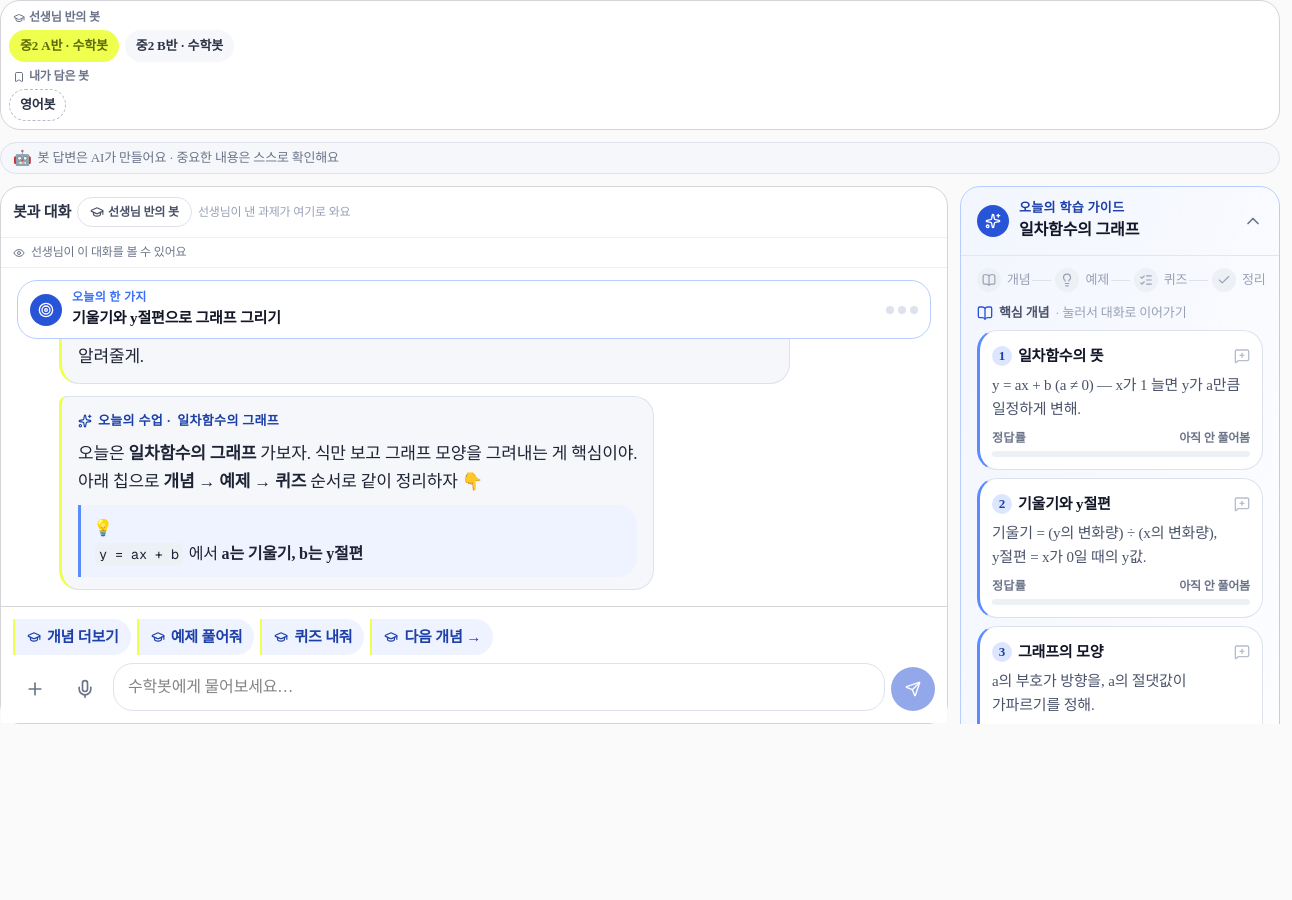
Test case: 같은 봇이 두 반에 걸려 있을 때 › 전송도 반 id 로 나간다 — 봇 id 가 아니다
The width and height of the screenshot is (1292, 900).
(page scrolled)
Type "일차함수가 뭐예요?" into the text box at (499, 687), box top-left (113, 663), bottom-right (885, 711)
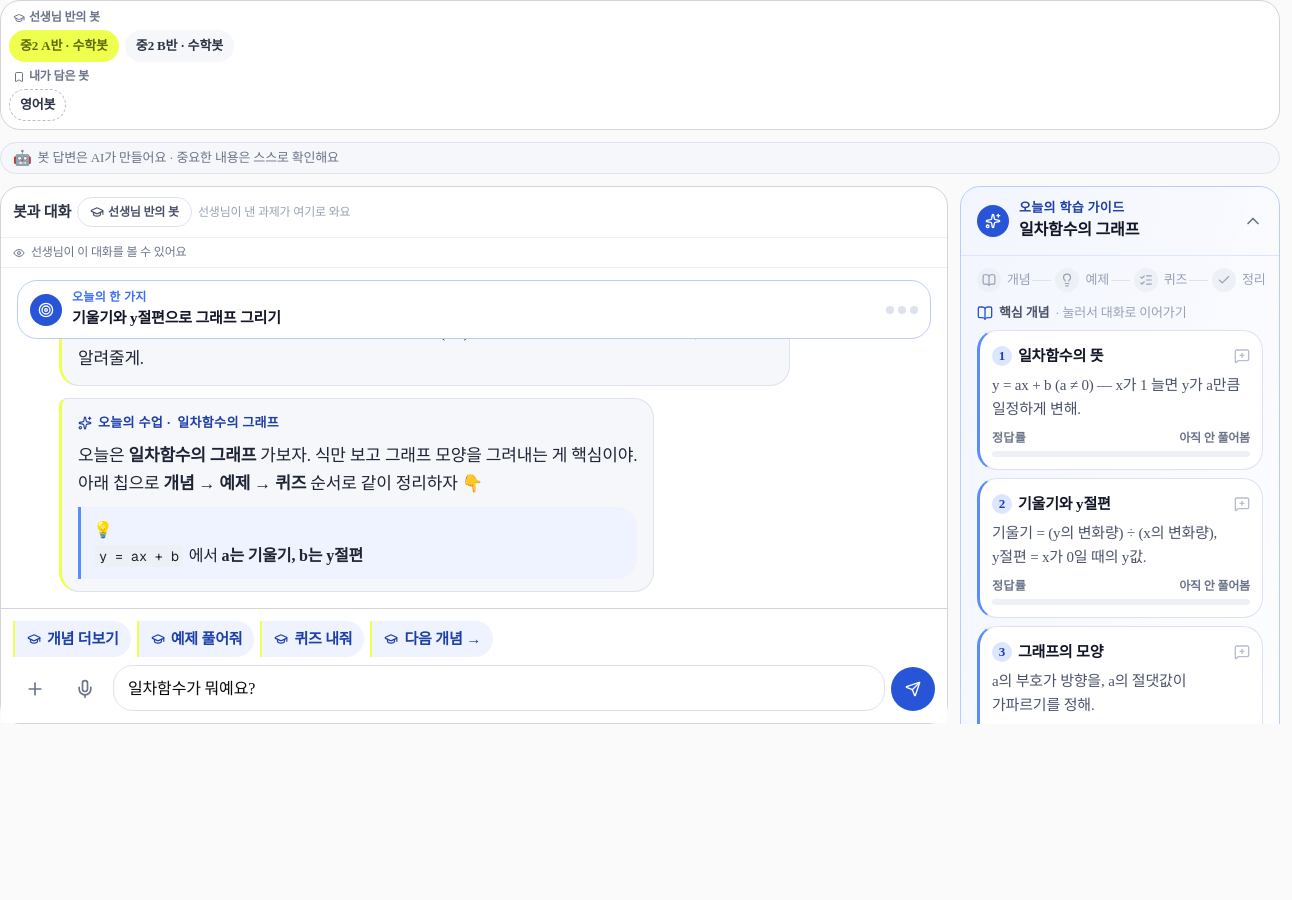
Submit the form named "질문 보내기", box top-left (13, 665), bottom-right (935, 711)
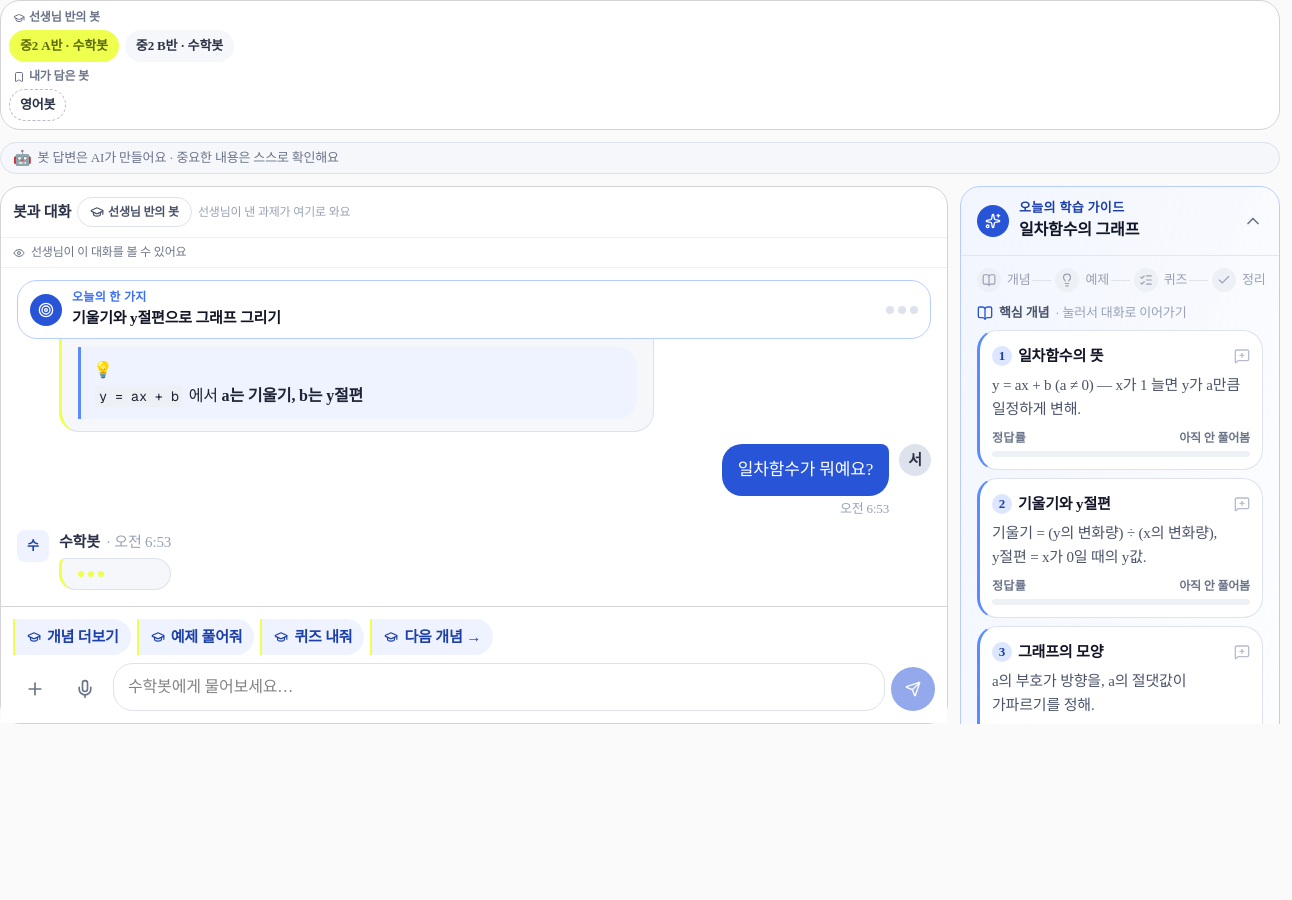
expect the text "일차함수가 뭐예요?" is shown: met, box top-left (722, 444), bottom-right (889, 496)
